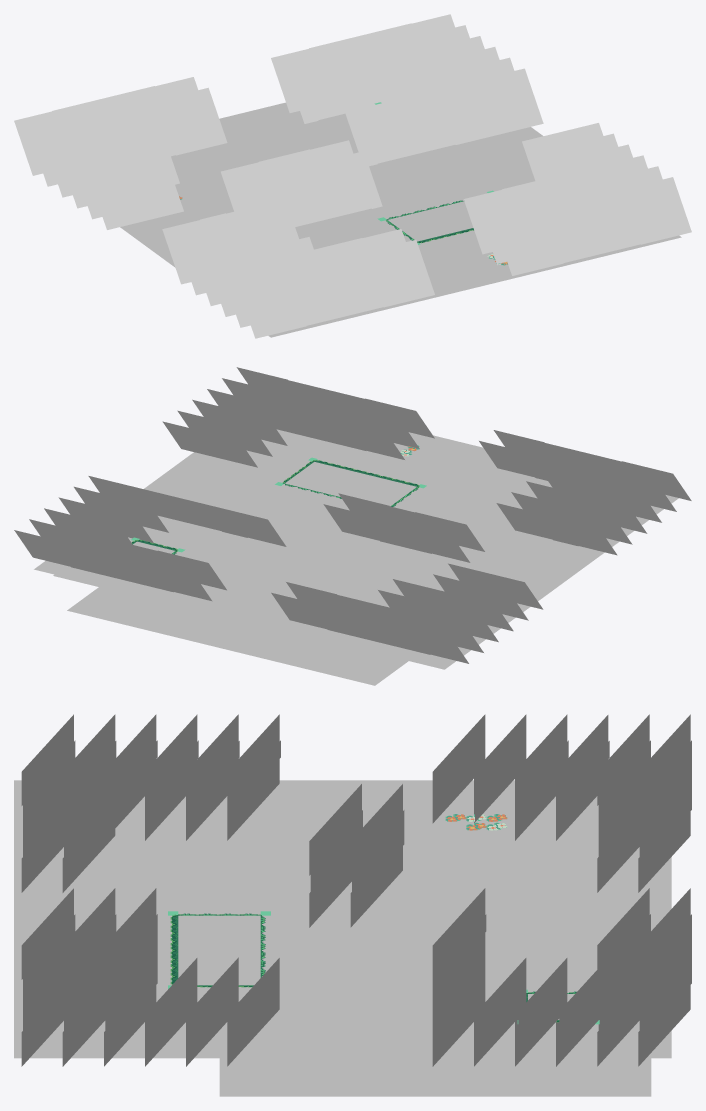
File: Safari Zone_Areas - Swamp.fbx
3 renders of one model, top to bottom at view 1: azimuth 30°, elevation 25°; view 2: azimuth 150°, elevation 25°; view 3: azimuth 270°, elevation 25°, orthographic. The views are drawn at different scales.
Parts seen in each view (by area): view 1: m_saf08_00_00c; view 2: m_saf08_00_00c; view 3: m_saf08_00_00c.
Part boxes in pixels (box(x1,y1,x2,y2)): m_saf08_00_00c: box(14, 14, 691, 338); m_saf08_00_00c: box(14, 367, 691, 685); m_saf08_00_00c: box(14, 714, 691, 1096).
Size of the model in its own units: 54400 by 9734 by 52777.
